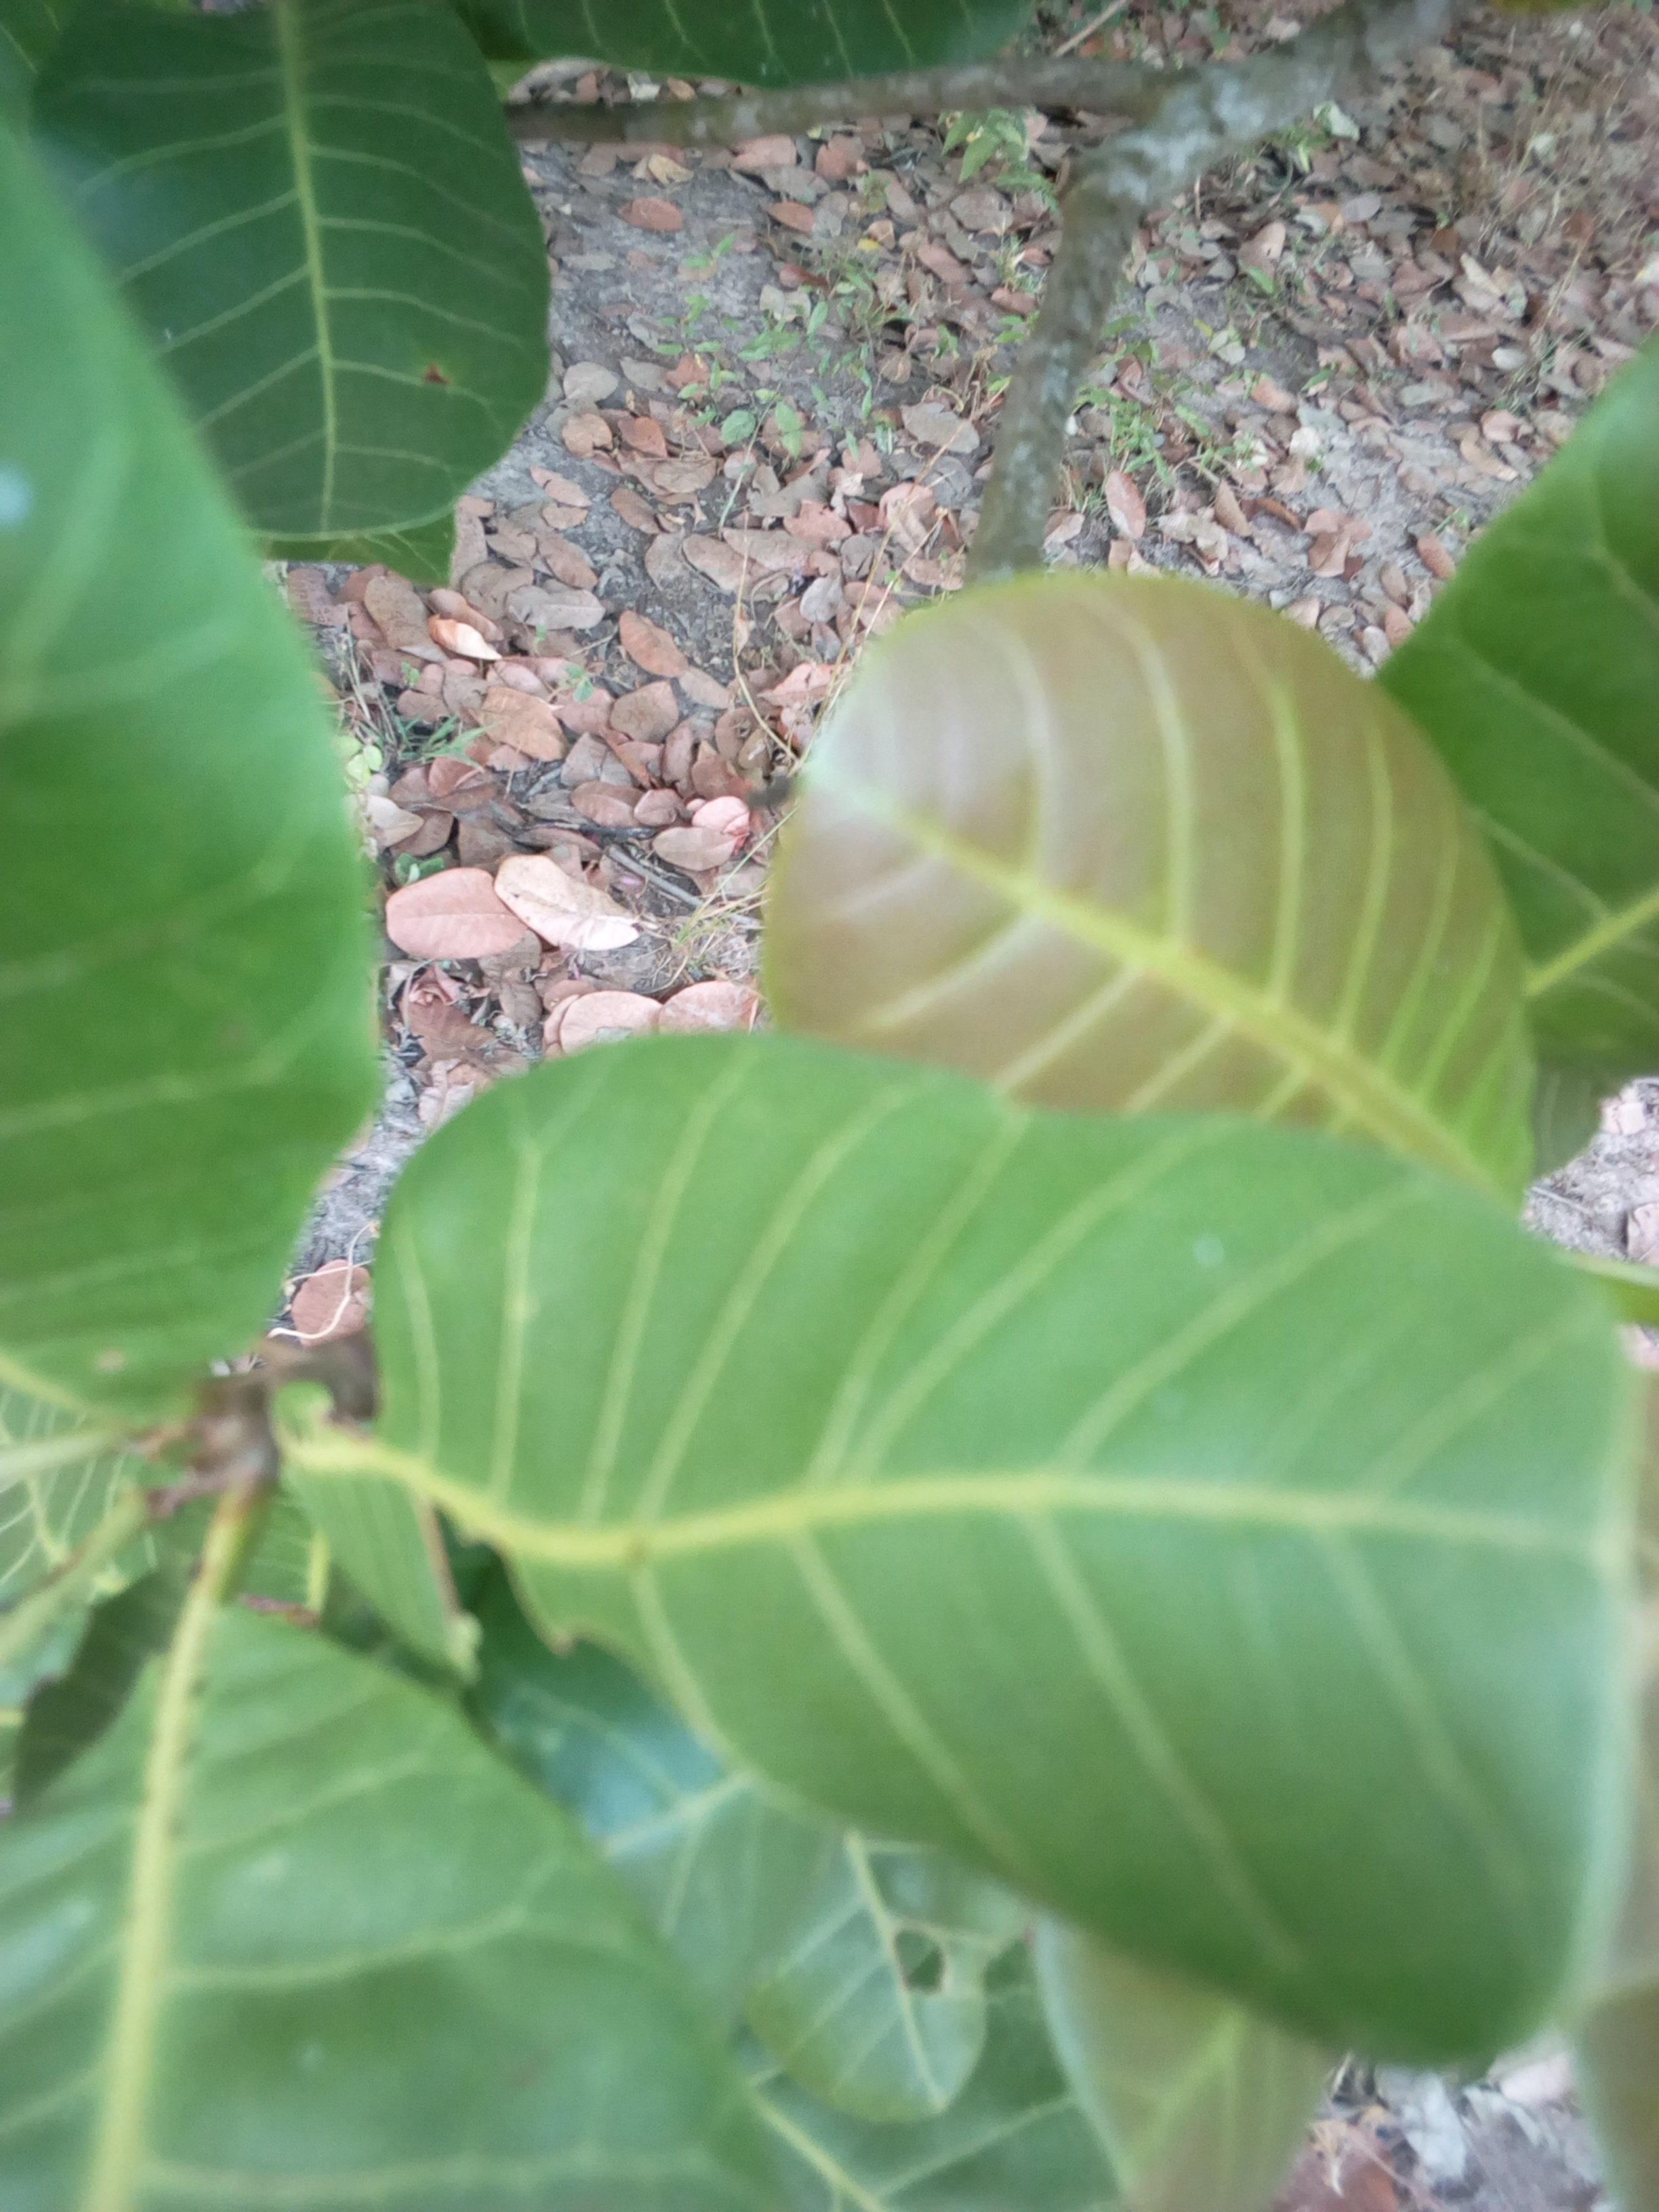Anoplocnemis curvipes: (403, 1451, 1155, 1794), (769, 1885, 972, 2120)
